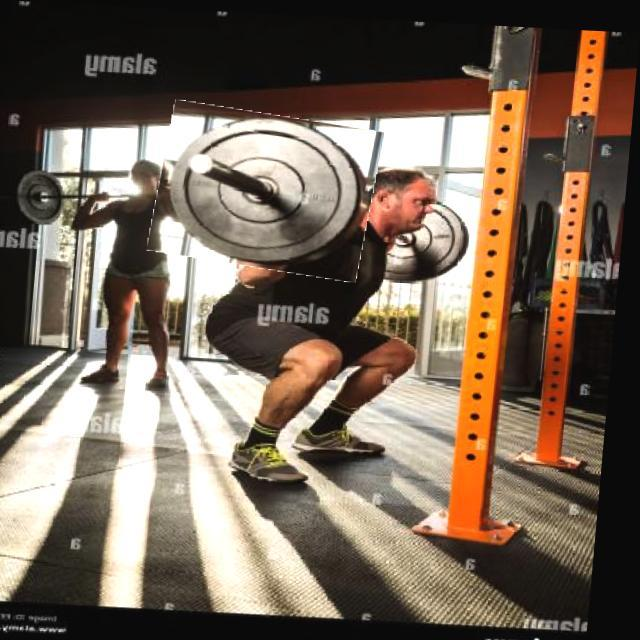barbell: (154, 104, 385, 275)
